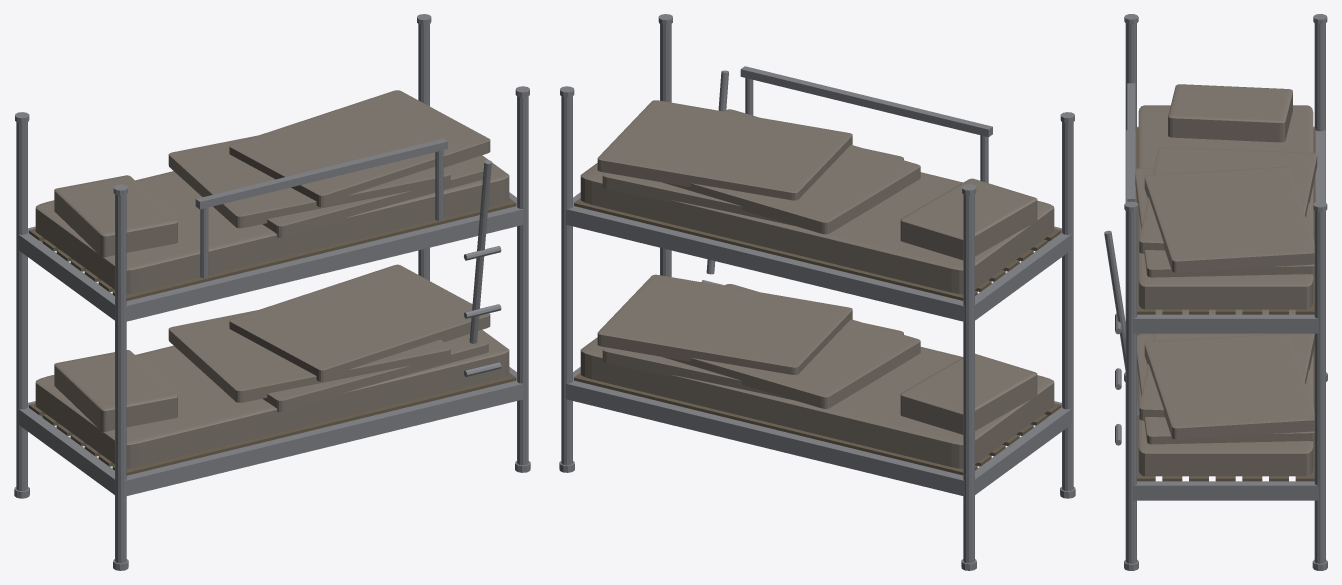
File: Ch2_Bunk.fbx
3 renders of one model, left to right at view 1: azimuth 30°, elevation 25°; view 2: azimuth 150°, elevation 25°; view 3: azimuth 270°, elevation 25°, orthographic. The views are drawn at different scales.
Parts seen in each view (by area): view 1: Ch2_Bunk; view 2: Ch2_Bunk; view 3: Ch2_Bunk.
Part boxes in pixels (x1,y1,x2,y2): Ch2_Bunk: (14,14,530,570); Ch2_Bunk: (559,14,1075,570); Ch2_Bunk: (1104,14,1327,570).
Size of the model in its own units: 1.94 by 1.7 by 0.9477.
